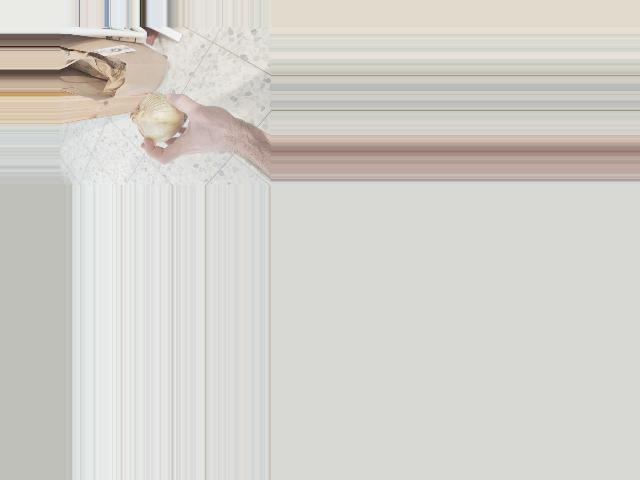onion: (128, 90, 191, 144)
